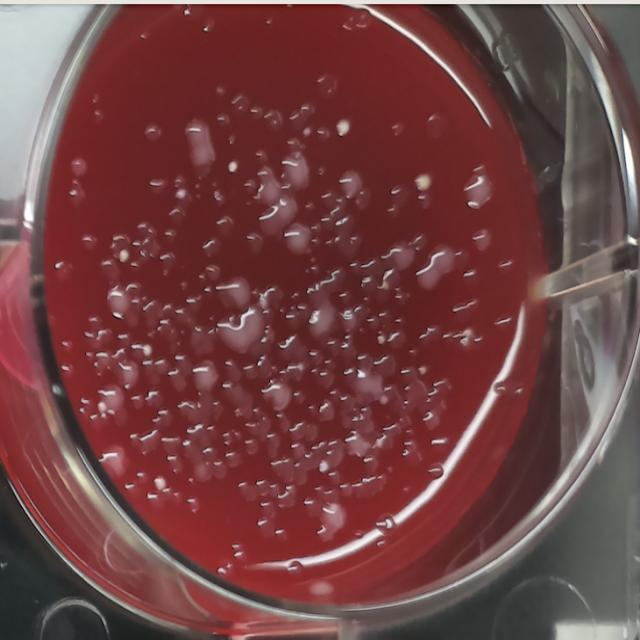Staphylococcus: (335, 116, 353, 139), (414, 171, 432, 193), (151, 475, 167, 494), (226, 159, 240, 176), (142, 342, 155, 358), (316, 459, 329, 475), (97, 398, 108, 416), (117, 249, 130, 264)
